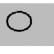no answer: (2, 8, 37, 36)
